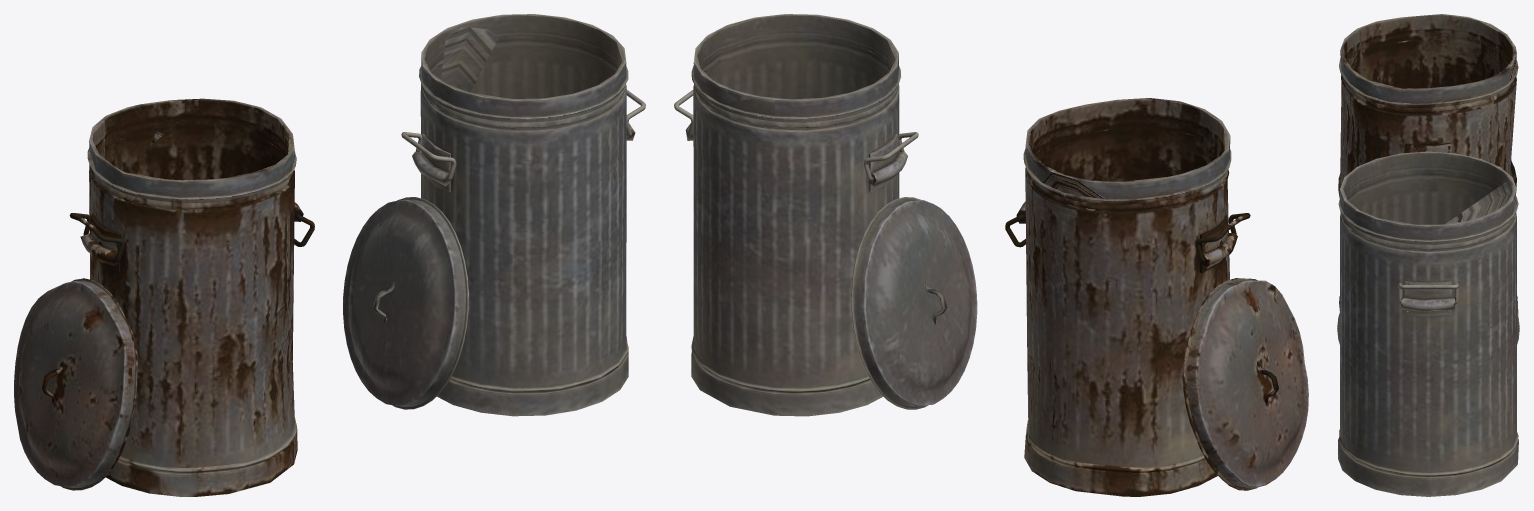
File: metal_trash_can.gltf
3 renders of one model, left to right at view 1: azimuth 30°, elevation 25°; view 2: azimuth 150°, elevation 25°; view 3: azimuth 270°, elevation 25°, orthographic. The views are drawn at different scales.
Visible parts, largest first — view 1: metal_trash_can, metal_trash_can_rust, metal_trash_can_lid, metal_trash_can_rust_lid; view 2: metal_trash_can, metal_trash_can_rust, metal_trash_can_lid, metal_trash_can_rust_lid; view 3: metal_trash_can, metal_trash_can_rust, metal_trash_can_handle_right.
Part boxes in pixels (x1,y1,x2,y2): metal_trash_can: (412, 14, 635, 416); metal_trash_can_rust: (80, 98, 303, 496); metal_trash_can_lid: (343, 197, 468, 409); metal_trash_can_rust_lid: (14, 278, 137, 490); metal_trash_can: (685, 14, 907, 416); metal_trash_can_rust: (1016, 98, 1237, 496); metal_trash_can_lid: (851, 197, 977, 409); metal_trash_can_rust_lid: (1183, 278, 1308, 490); metal_trash_can: (1338, 151, 1518, 496); metal_trash_can_rust: (1339, 14, 1518, 315); metal_trash_can_handle_right: (1398, 283, 1458, 304).
Bounding box in the file's own units: 1.78 × 0.9062 × 0.5563.
Materials: 3 (3 with a texture image).
